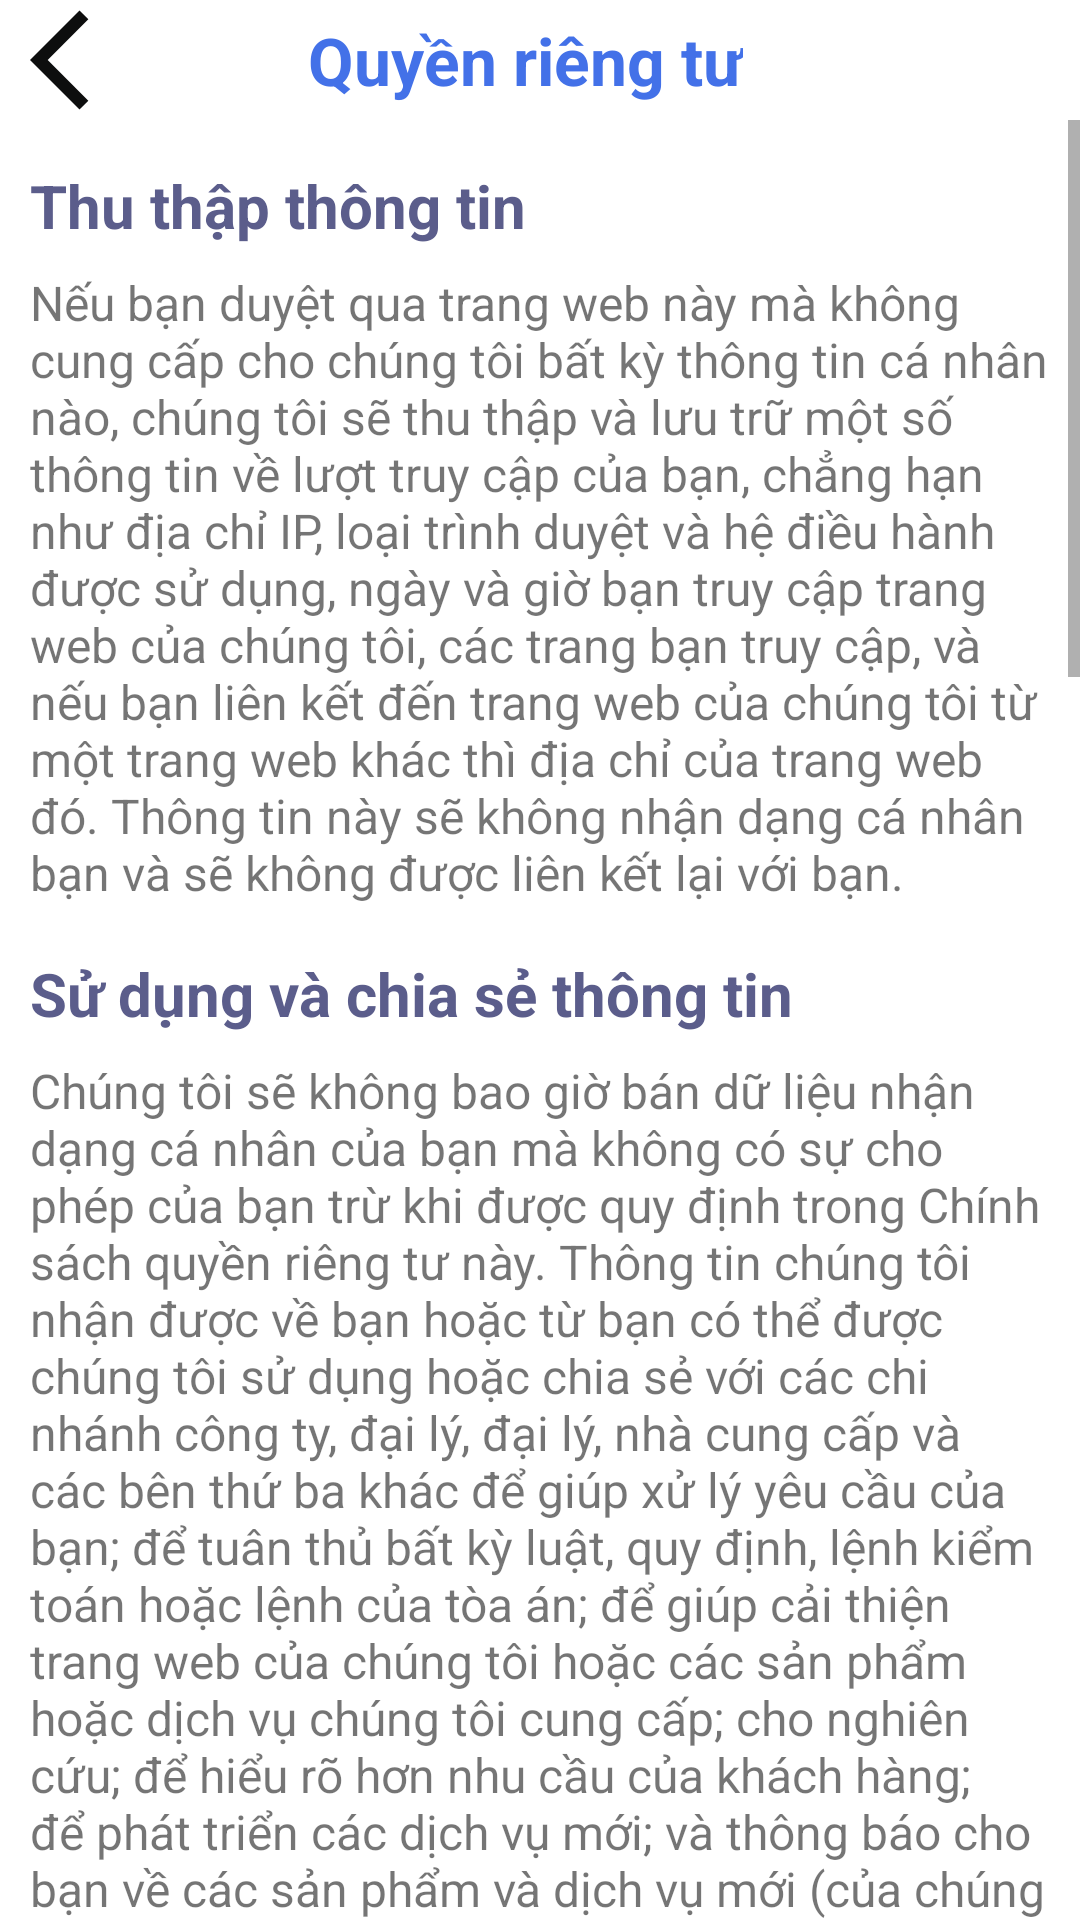

Named icons in this screenshot (1080×1920) and their bounding boxes, (x1,y1,x2,y2):
back: (30,10,89,110)
